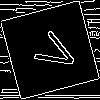V: (25, 25, 82, 77)
